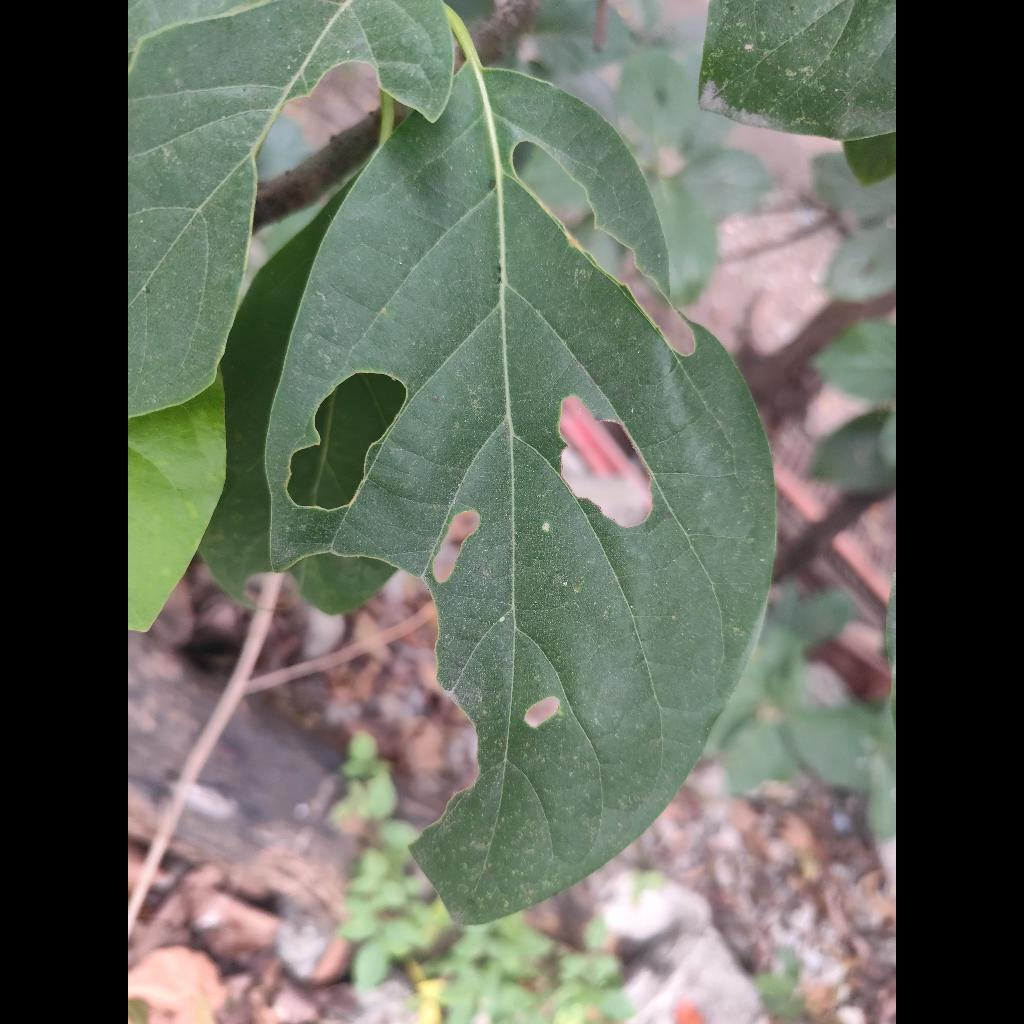Pest Infested: (266, 66, 773, 923)
